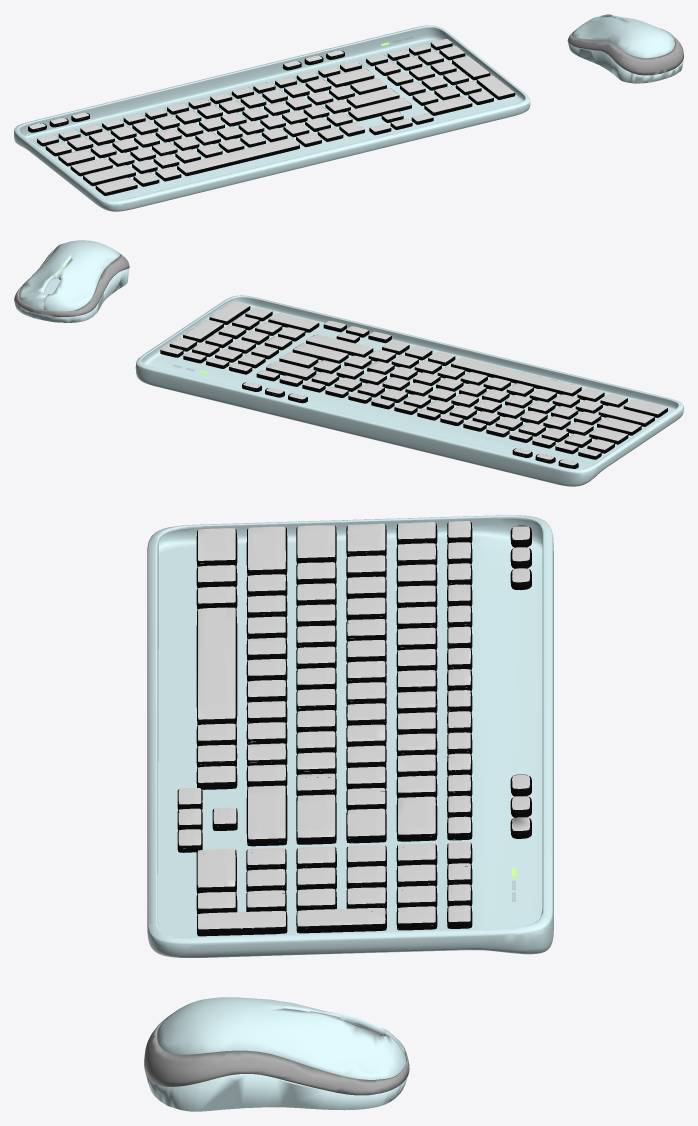
File: keyboard-small.glb
3 renders of one model, top to bottom at view 1: azimuth 30°, elevation 25°; view 2: azimuth 150°, elevation 25°; view 3: azimuth 270°, elevation 25°, orthographic. The views are drawn at different scales.
Visible parts, largest first — view 1: Object_7; view 2: Object_7; view 3: Object_7.
Boxes of the visible parts, box(x1,y1,x2,y2) form: Object_7: box(14, 14, 683, 211); Object_7: box(14, 240, 683, 486); Object_7: box(144, 515, 553, 1111).
Size of the model in its own units: 10.7 by 0.6612 by 3.24.
3 materials, 3 textured.
